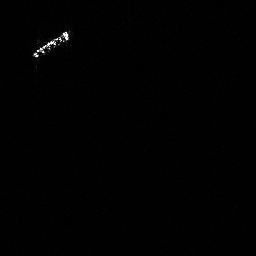ship: (29, 27, 75, 62)
